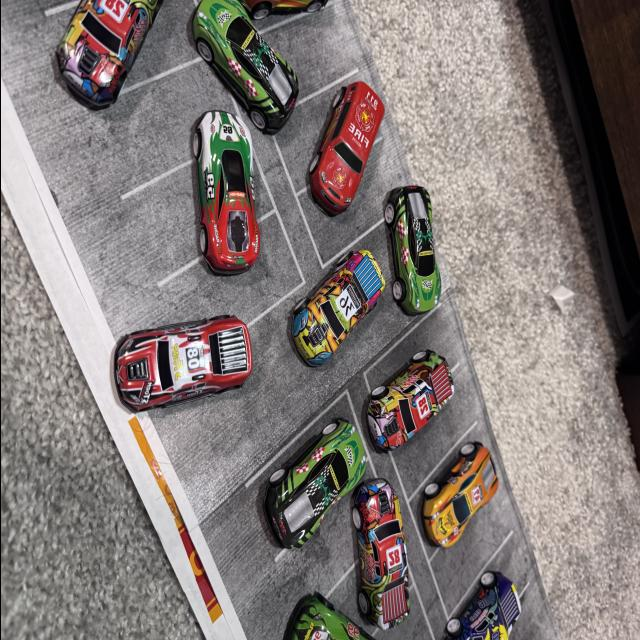car: (82, 292, 270, 402), (180, 0, 312, 144), (33, 0, 148, 164), (198, 99, 278, 293), (237, 407, 356, 537), (352, 450, 425, 640), (403, 428, 518, 538), (330, 366, 462, 452), (313, 86, 397, 202), (377, 188, 442, 306), (300, 276, 376, 354), (438, 580, 518, 640)
